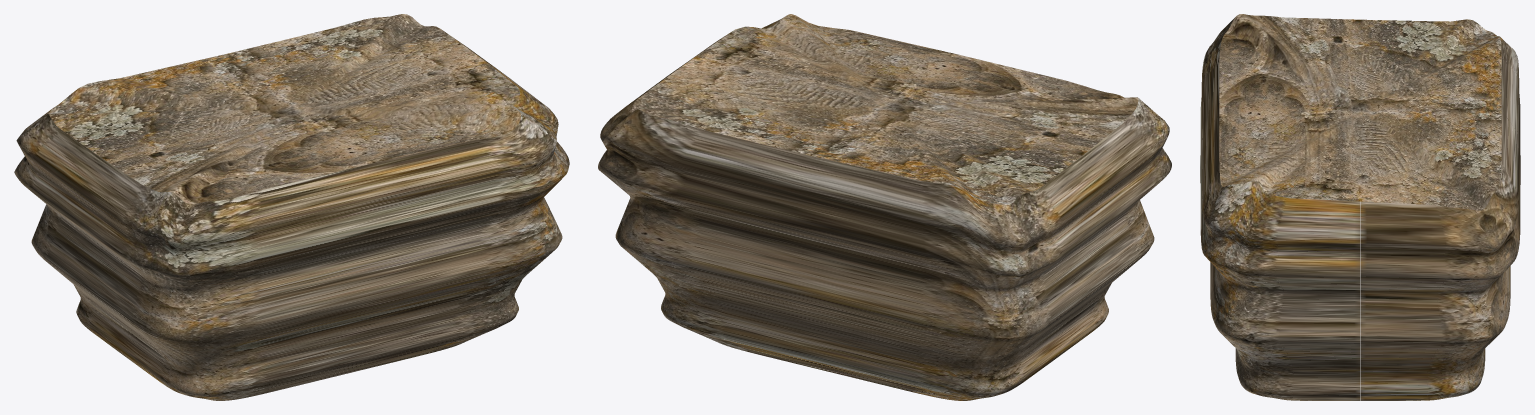
File: cornice.glb
3 renders of one model, left to right at view 1: azimuth 30°, elevation 25°; view 2: azimuth 150°, elevation 25°; view 3: azimuth 270°, elevation 25°, orthographic. The views are drawn at different scales.
Visible parts, largest first — view 1: cornice; view 2: cornice; view 3: cornice.
Part boxes in pixels (bbox=[...]): cornice: bbox=[14, 14, 569, 400]; cornice: bbox=[598, 14, 1171, 400]; cornice: bbox=[1200, 14, 1520, 400].
Size of the model in its own units: 1.09 by 0.5595 by 0.6987.
1 material, 1 textured.
